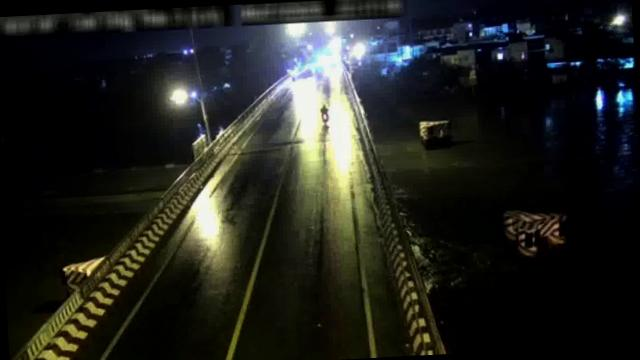Bike: (318, 104, 331, 128)
